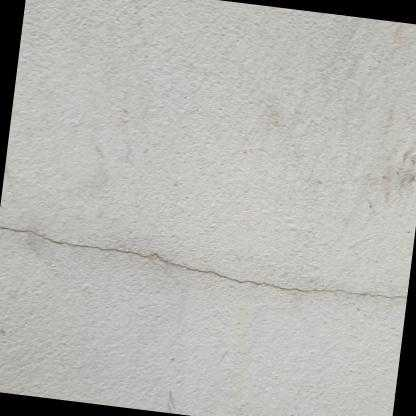crack: (0, 226, 407, 298)
